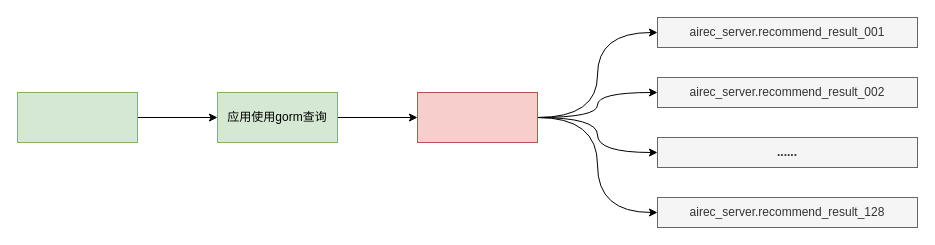
This 935x245 diagram has some shape labels left out. The box of each missing label's shape, as (x1, y1, x2, y2) in pixels:
gorm拦截器拦截后 hash计算Index: (416, 92, 538, 142)
user_id请求接口: (16, 92, 138, 142)
